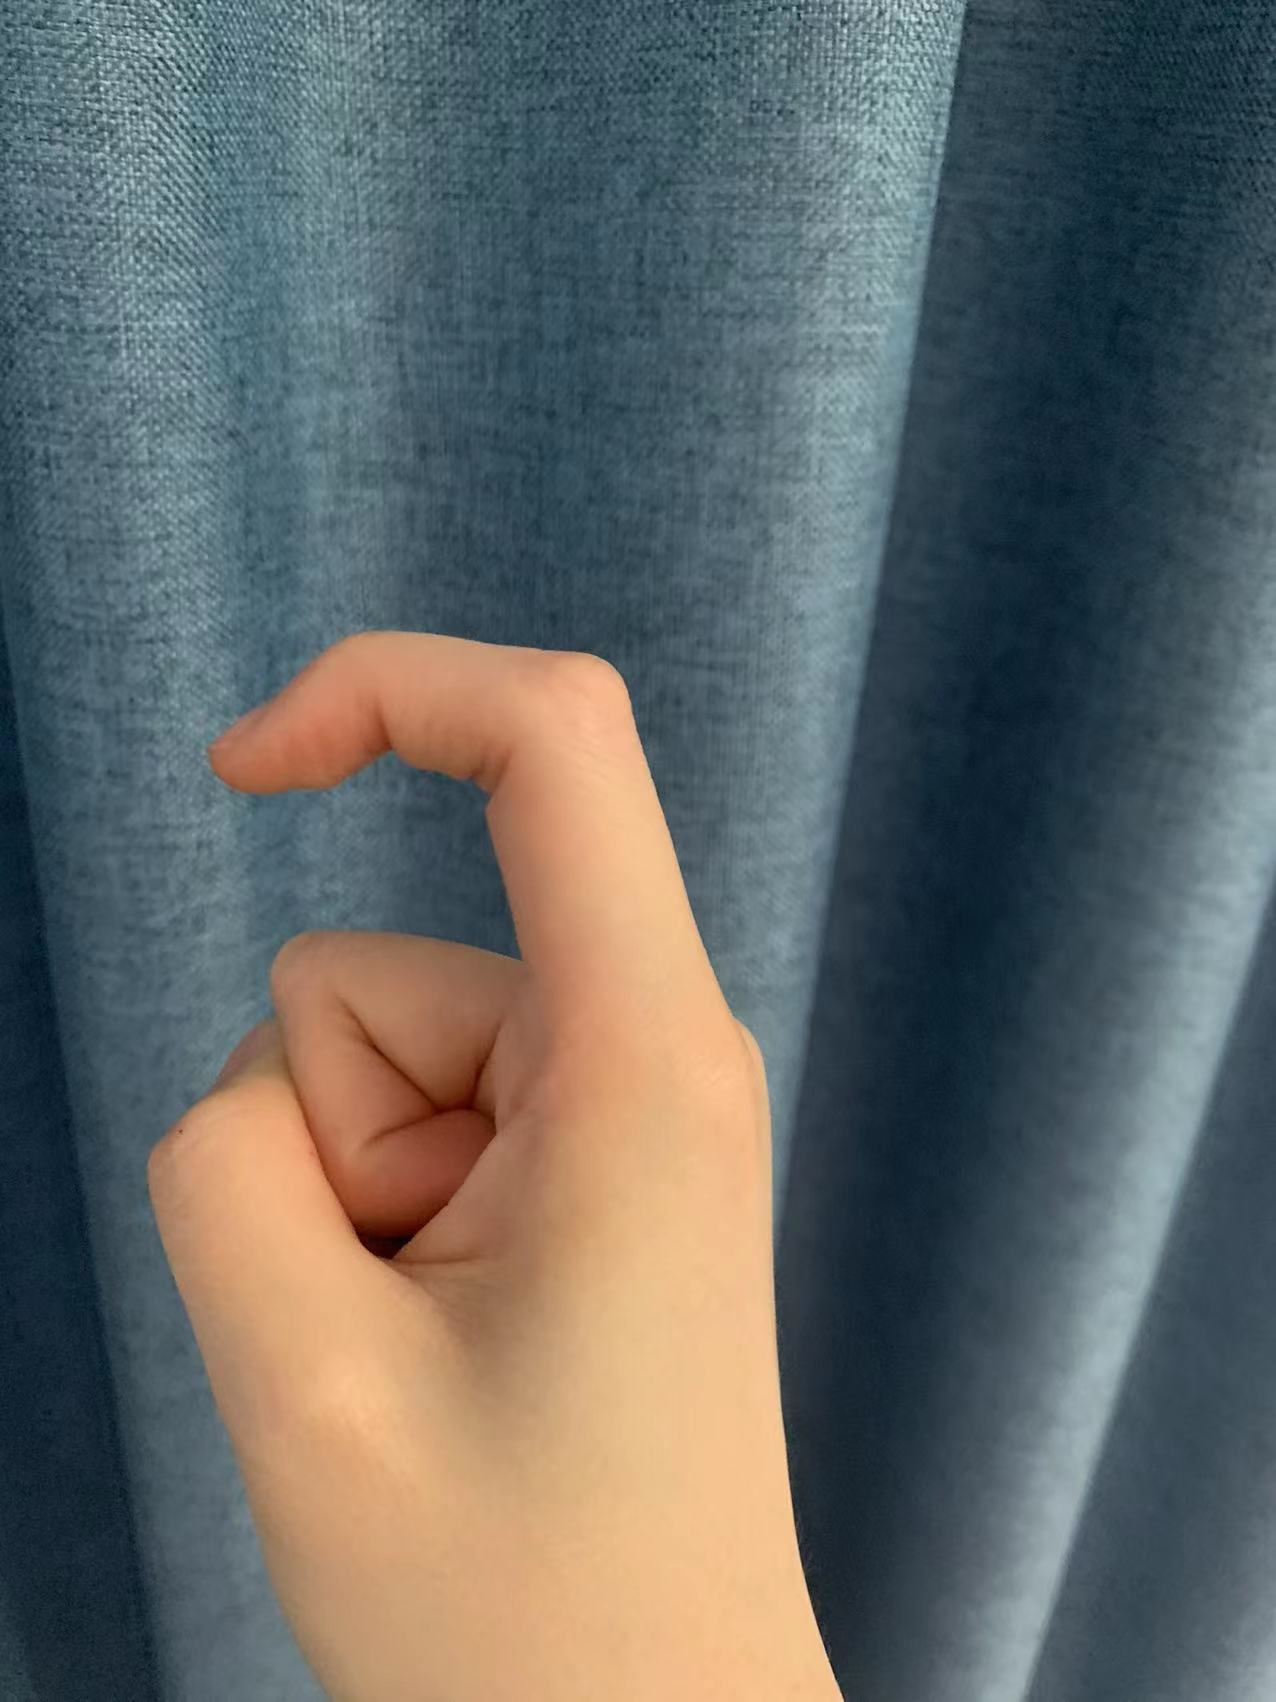anticlockwise: (133, 620, 781, 1622)
